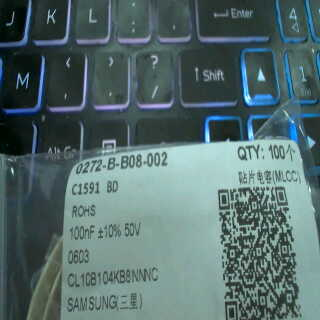100nF: (66, 221, 97, 245)
